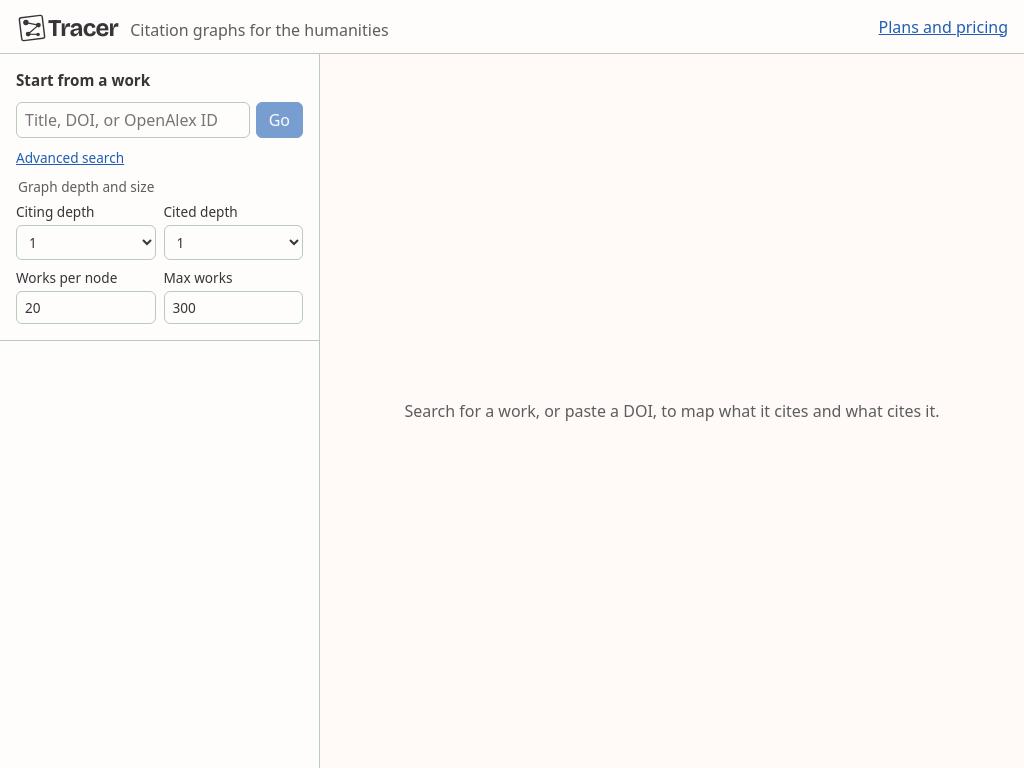
Test: App › shows what each search result has to build a graph from
Step 1. Type "cixi" into the search field labelled "Title, DOI, or OpenAlex ID" → (133, 120), box [16,102,250,138]
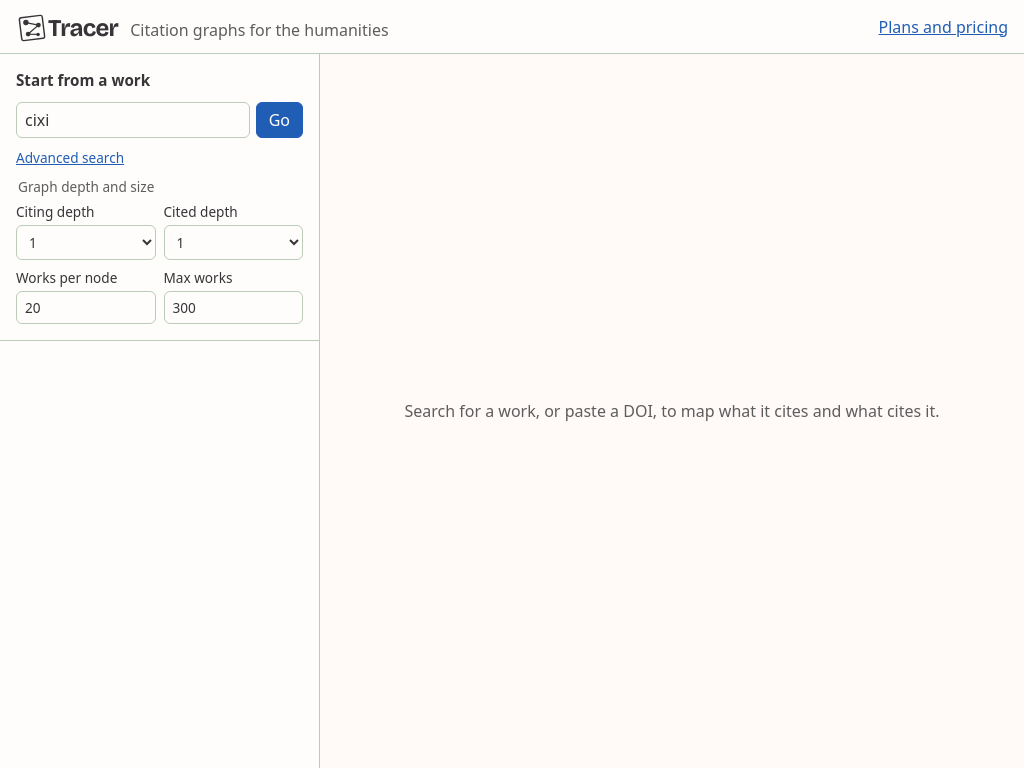
Step 2. Click the button "Go" → click(279, 120), box [256,102,303,138]
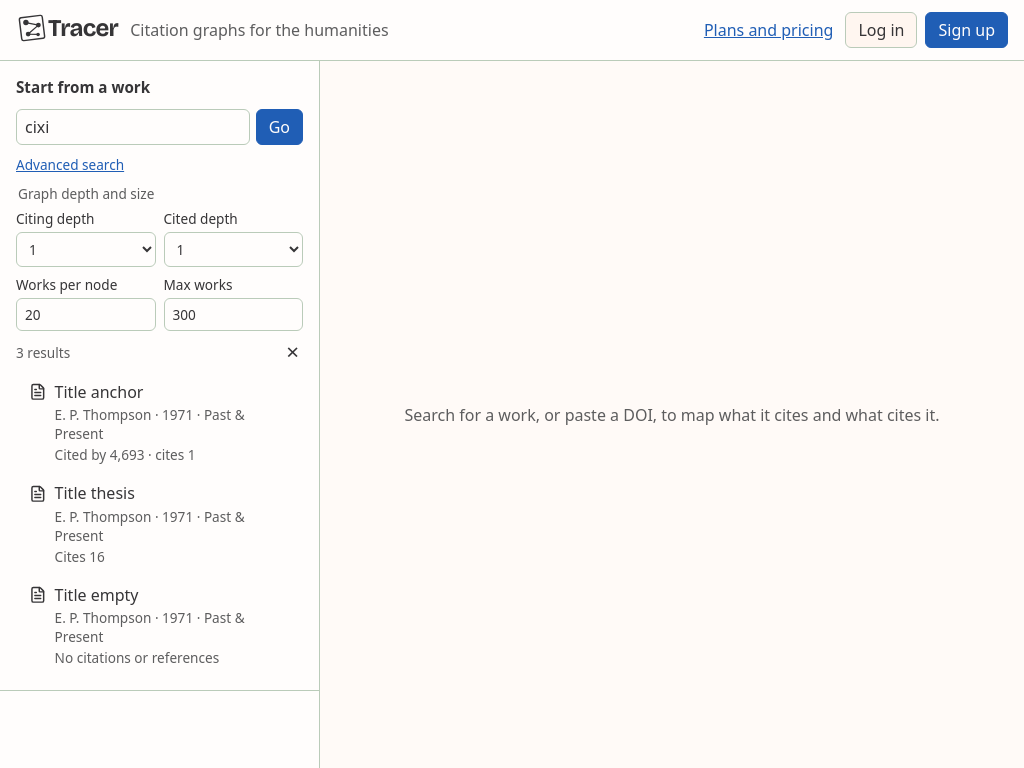
Expected: the button "Title anchor" shows "Cited by 4,693 · cites 1", [16,374,303,471]
Expected: the button "Title thesis E. P. Thompson · 1971 · Past & Present Cites 16" is shown, [16,475,303,573]
Expected: the button "Title empty" shows "No citations or references", [16,577,303,674]
